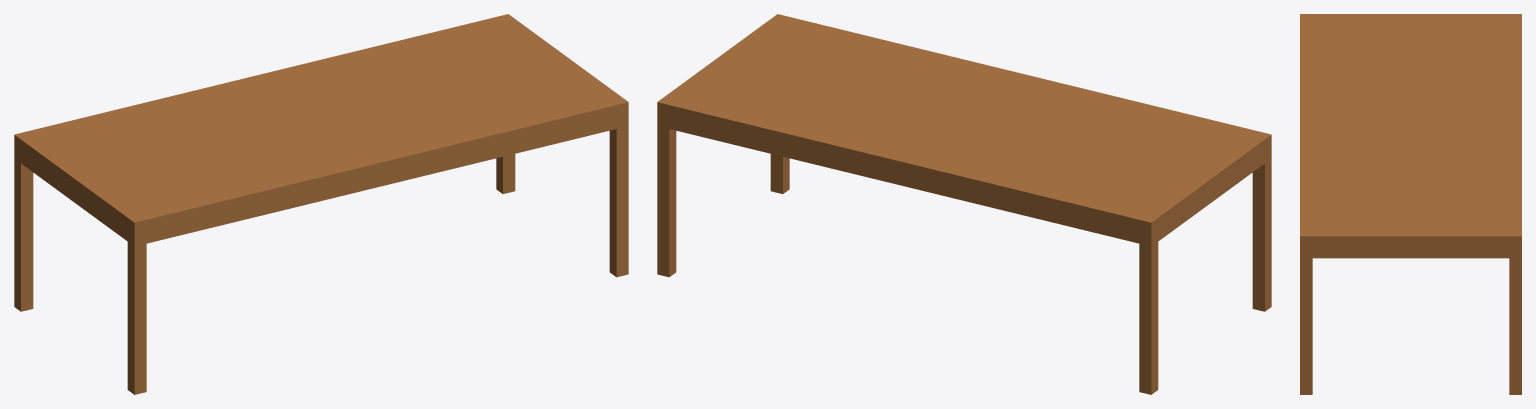
The model's file is MSH_Meza.FBX.
3 views of the same model, side by side, from view 1: azimuth 30°, elevation 25°; view 2: azimuth 150°, elevation 25°; view 3: azimuth 270°, elevation 25° (orthographic). The views are drawn at different scales.
Visible parts, largest first — view 1: Box005; view 2: Box005; view 3: Box005.
Boxes of the visible parts, x1,y1,x2,y2 form: Box005: (14, 14, 628, 394); Box005: (657, 14, 1271, 394); Box005: (1300, 14, 1521, 394).
Size of the model in its own units: 34.86 by 11.61 by 14.71.
